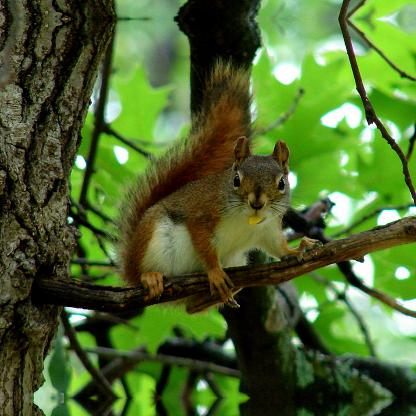Squirrel: (103, 56, 318, 308)
